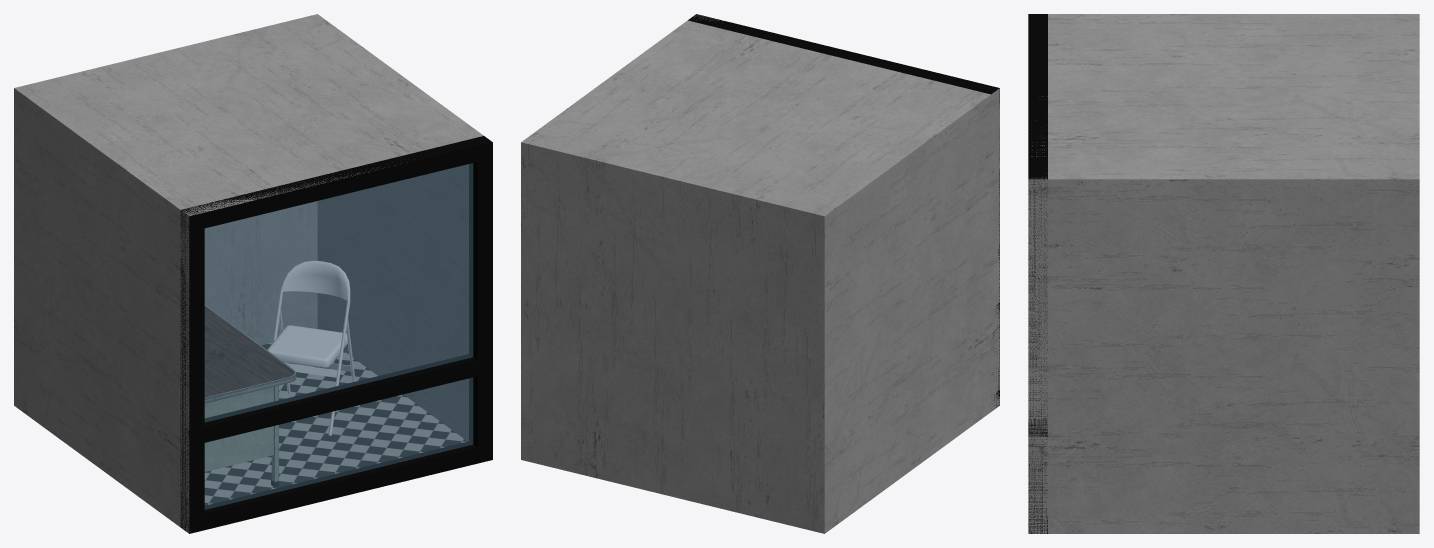
Rendered from window_half.glb.
The picture shows the model from 3 angles, left to right: view 1: azimuth 30°, elevation 25°; view 2: azimuth 150°, elevation 25°; view 3: azimuth 270°, elevation 25°; orthographic projection. The views are drawn at different scales.
Parts seen in each view (by area): view 1: vidro, Plane.002, room_light, Plane.004, Plane, Plane.003, Cube.006, Cube.003, Cube, Cube.005, Cube.001, Cube.002 (+1 smaller); view 2: Plane.003, Plane.002, room_light, Cube.003; view 3: Plane.004, room_light, Cube.003, Cube.002.
Boxes of the visible parts, <box> form: vidro: <box>204,163,473,509</box>; Plane.002: <box>14,88,189,533</box>; room_light: <box>14,14,483,216</box>; Plane.004: <box>317,164,468,441</box>; Plane: <box>204,342,467,505</box>; Plane.003: <box>204,201,317,345</box>; Cube.006: <box>204,304,296,487</box>; Cube.003: <box>181,136,492,231</box>; Cube: <box>180,441,492,533</box>; Cube.005: <box>185,354,490,446</box>; Cube.001: <box>180,207,204,533</box>; Cube.002: <box>469,142,492,459</box>; Plane.003: <box>521,142,824,533</box>; Plane.002: <box>824,88,999,533</box>; room_light: <box>521,14,990,216</box>; Cube.003: <box>688,14,999,103</box>; Plane.004: <box>1028,179,1419,533</box>; room_light: <box>1029,14,1419,179</box>; Cube.003: <box>1028,14,1047,196</box>; Cube.002: <box>1028,171,1047,532</box>.
Size of the model in its own units: 2 by 2 by 2.
Materials: 6 (4 with a texture image).
